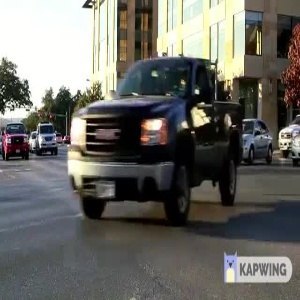truck: (70, 54, 253, 222)
